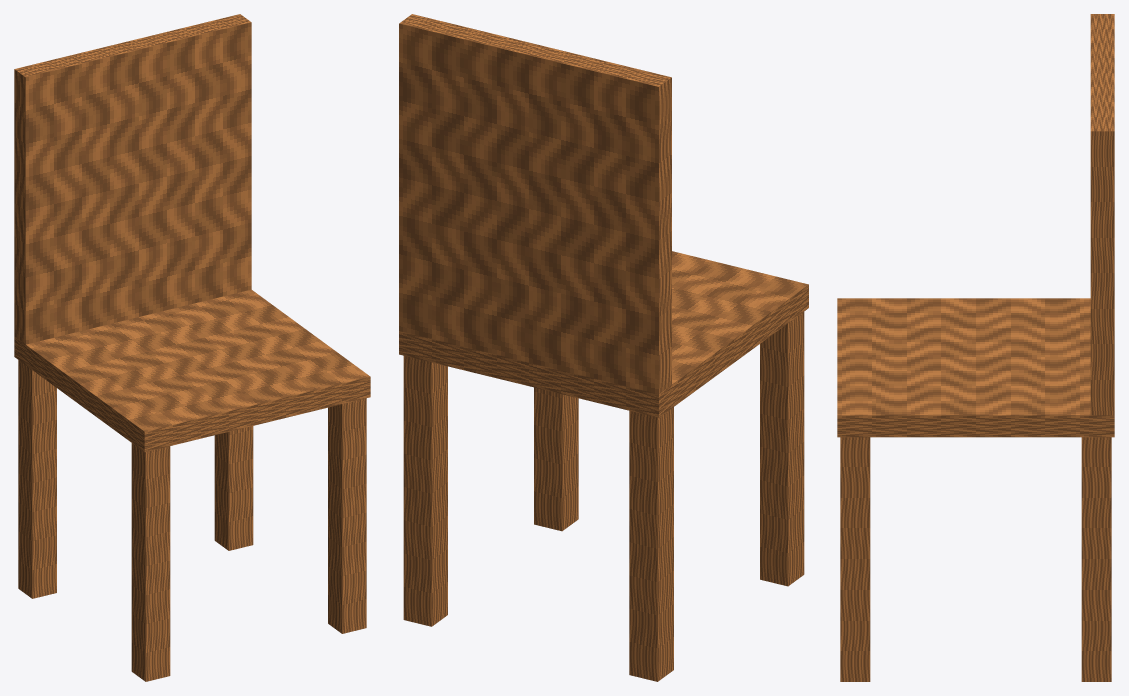
The model's file is chair-textured.glb.
3 views of the same model, side by side, from view 1: azimuth 30°, elevation 25°; view 2: azimuth 150°, elevation 25°; view 3: azimuth 270°, elevation 25° (orthographic). The views are drawn at different scales.
Parts seen in each view (by area): view 1: back, seat, leg_fl, leg_fr, leg_bl, leg_br; view 2: back, seat, leg_bl, leg_br, leg_fl, leg_fr; view 3: seat, back, leg_fr, leg_br.
Part boxes in pixels (x1,y1,x2,y2): back: (14, 14, 251, 344); seat: (14, 289, 370, 452); leg_fl: (131, 443, 170, 681); leg_fr: (328, 398, 366, 633); leg_bl: (18, 360, 56, 598); leg_br: (214, 426, 253, 550); back: (399, 14, 671, 394); seat: (399, 251, 808, 417); leg_bl: (629, 407, 673, 681); leg_br: (403, 356, 447, 626); leg_fl: (760, 312, 804, 586); leg_fr: (534, 387, 578, 531); seat: (837, 298, 1114, 437); back: (1090, 14, 1114, 415); leg_fr: (840, 437, 870, 681); leg_br: (1081, 437, 1111, 681).
Bounding box in the file's own units: 0.46 × 1.01 × 0.46.
Materials: 1 (1 with a texture image).
